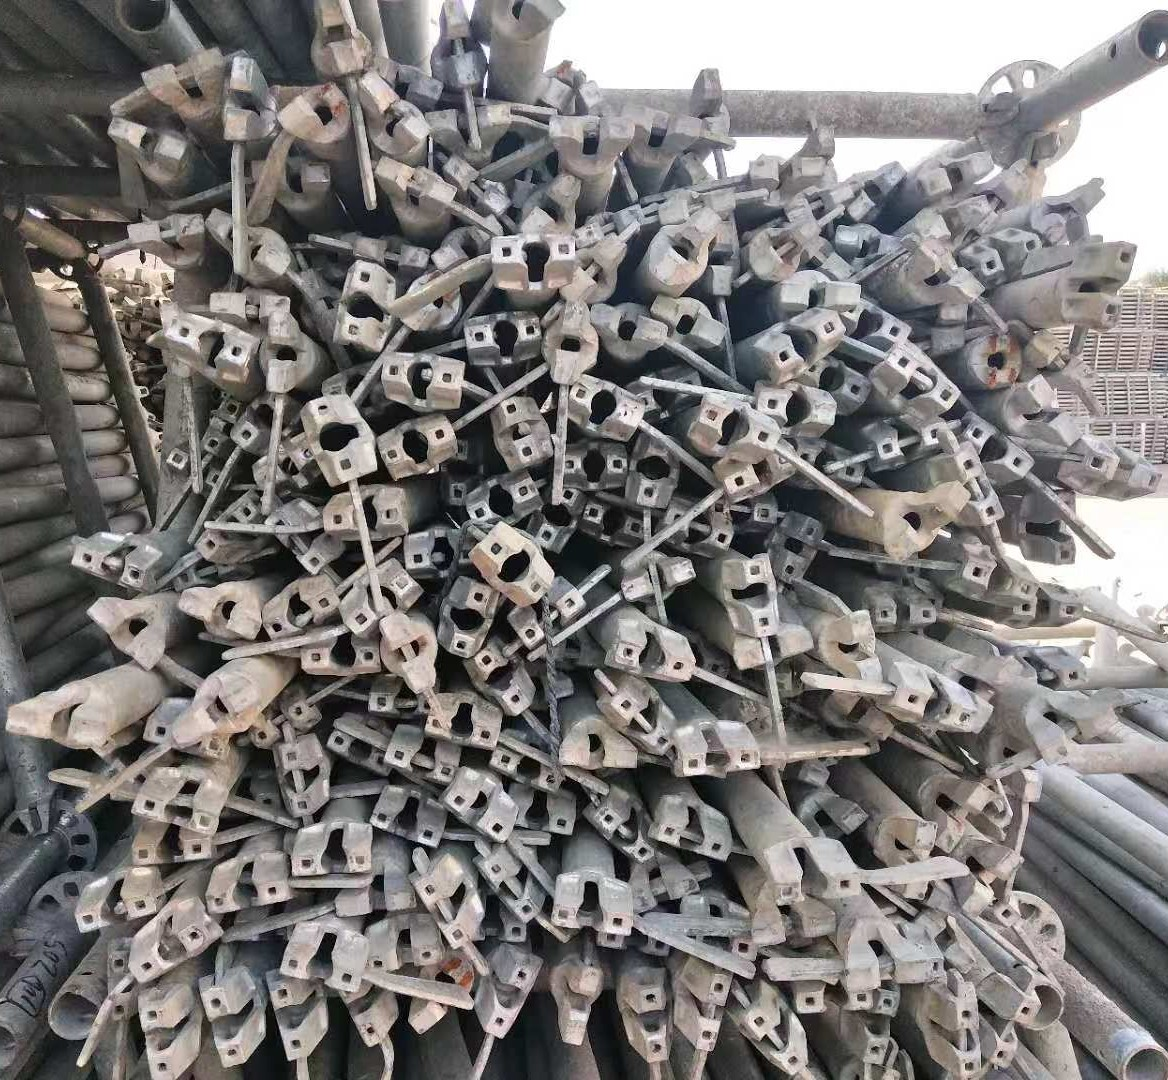NHsquare_steel: (174, 672, 264, 746), (884, 482, 969, 558), (87, 597, 166, 672), (650, 208, 723, 286), (360, 68, 429, 148), (1034, 698, 1117, 764), (140, 46, 224, 107), (915, 237, 987, 305), (7, 700, 107, 748), (559, 232, 628, 302), (1020, 370, 1083, 447), (373, 157, 457, 214), (378, 615, 437, 693), (960, 845, 1024, 917), (173, 588, 262, 639), (551, 959, 603, 1046), (931, 782, 993, 854), (646, 294, 728, 348), (99, 118, 187, 168), (1025, 327, 1094, 391), (443, 158, 511, 220), (520, 174, 584, 239), (1038, 182, 1104, 244), (827, 612, 880, 688), (750, 217, 818, 276), (218, 55, 262, 143), (915, 151, 996, 198), (548, 298, 593, 384), (846, 949, 937, 992), (429, 218, 504, 269), (920, 908, 977, 975), (843, 160, 907, 220), (824, 692, 894, 745), (437, 1, 480, 89), (625, 105, 703, 152), (733, 627, 820, 669), (587, 303, 668, 348), (259, 319, 308, 394), (775, 274, 865, 313), (890, 817, 930, 905), (614, 556, 695, 599), (121, 215, 206, 253), (753, 909, 837, 948), (317, 2, 360, 77), (371, 59, 443, 103), (250, 159, 333, 196), (424, 103, 511, 138), (547, 117, 637, 151), (833, 222, 909, 259), (560, 737, 639, 772), (694, 64, 729, 140), (353, 238, 433, 271), (334, 886, 414, 918), (206, 288, 291, 318), (745, 159, 829, 188), (787, 183, 855, 218)
THsquare_steel: (469, 526, 553, 603), (299, 397, 371, 485), (133, 913, 219, 984), (476, 949, 543, 1038), (891, 678, 984, 738), (201, 980, 264, 1064), (167, 316, 254, 375), (1083, 238, 1137, 332), (759, 312, 848, 370), (691, 403, 780, 457), (333, 262, 388, 348), (137, 997, 193, 1080), (379, 416, 456, 477), (347, 569, 418, 635), (195, 495, 262, 563), (603, 629, 693, 680), (265, 506, 329, 577), (978, 986, 1033, 1068), (471, 648, 535, 715), (266, 582, 341, 639), (565, 378, 646, 430), (963, 419, 1036, 477), (447, 780, 513, 842), (378, 355, 464, 402), (1084, 445, 1159, 498), (445, 578, 497, 654), (737, 555, 783, 640), (468, 473, 545, 524), (281, 946, 366, 992), (963, 555, 1039, 607), (756, 382, 837, 430), (495, 398, 548, 468), (273, 982, 319, 1062), (74, 889, 165, 929), (630, 976, 671, 1064), (773, 860, 857, 904), (490, 238, 576, 280), (773, 514, 824, 583), (365, 804, 443, 849), (628, 437, 678, 506), (717, 452, 799, 493), (675, 737, 758, 778), (1036, 488, 1078, 566), (209, 873, 290, 913), (858, 989, 903, 1062), (250, 698, 317, 746), (491, 747, 563, 793), (324, 498, 410, 535), (553, 893, 633, 933), (328, 729, 391, 779), (468, 315, 543, 357), (424, 706, 500, 747), (339, 994, 396, 1048), (575, 502, 649, 543), (975, 229, 1038, 277), (129, 833, 213, 868), (556, 446, 629, 486), (301, 643, 381, 678), (298, 845, 377, 880), (367, 936, 443, 970), (536, 486, 578, 547), (850, 304, 911, 345), (403, 539, 473, 574), (795, 984, 871, 1016), (870, 596, 936, 631), (597, 928, 671, 959), (1011, 598, 1084, 628), (444, 442, 471, 507), (517, 806, 575, 836), (367, 692, 423, 720)
THsquare_steel_blocked: (738, 1002, 805, 1076), (416, 865, 475, 949), (70, 538, 159, 592), (885, 348, 961, 410), (680, 968, 733, 1053), (603, 692, 674, 755), (938, 987, 986, 1080), (515, 588, 584, 648), (951, 443, 1001, 526), (589, 803, 656, 864), (479, 854, 541, 918), (866, 417, 950, 464), (133, 786, 220, 831), (650, 816, 733, 862), (275, 743, 322, 816), (384, 737, 457, 782), (657, 506, 731, 550), (796, 446, 868, 486), (99, 949, 137, 1022), (706, 494, 780, 526), (1026, 654, 1085, 689), (479, 918, 526, 945)
circle_steel: (45, 988, 100, 1043), (1128, 5, 1168, 67), (111, 1, 175, 37), (1031, 976, 1068, 1028), (1118, 1042, 1168, 1080)
